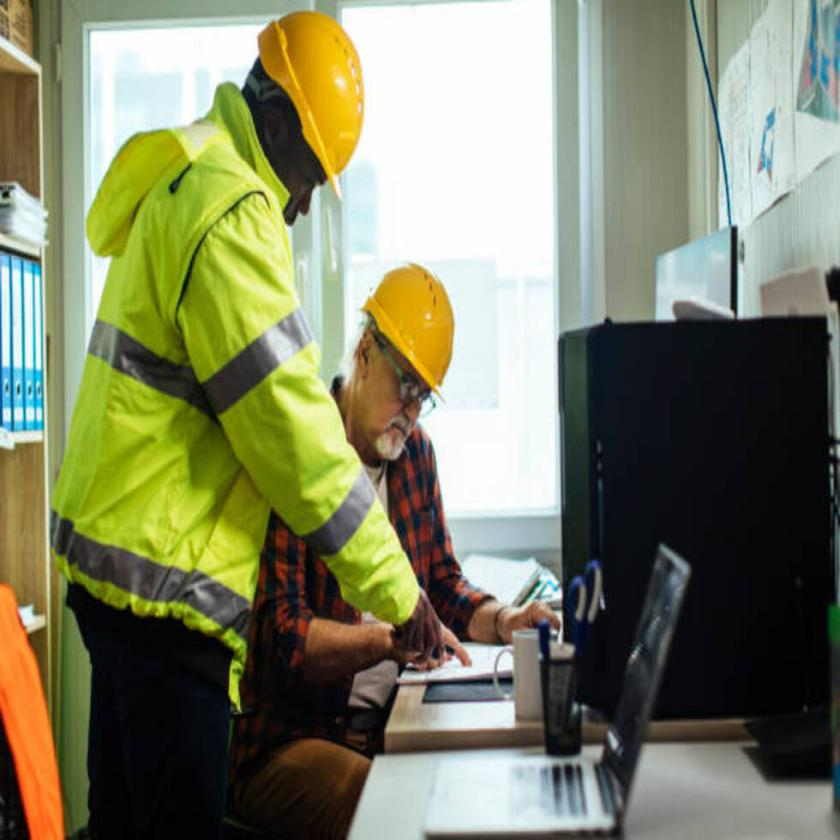Con_casco: (238, 13, 368, 240), (345, 263, 459, 478)
